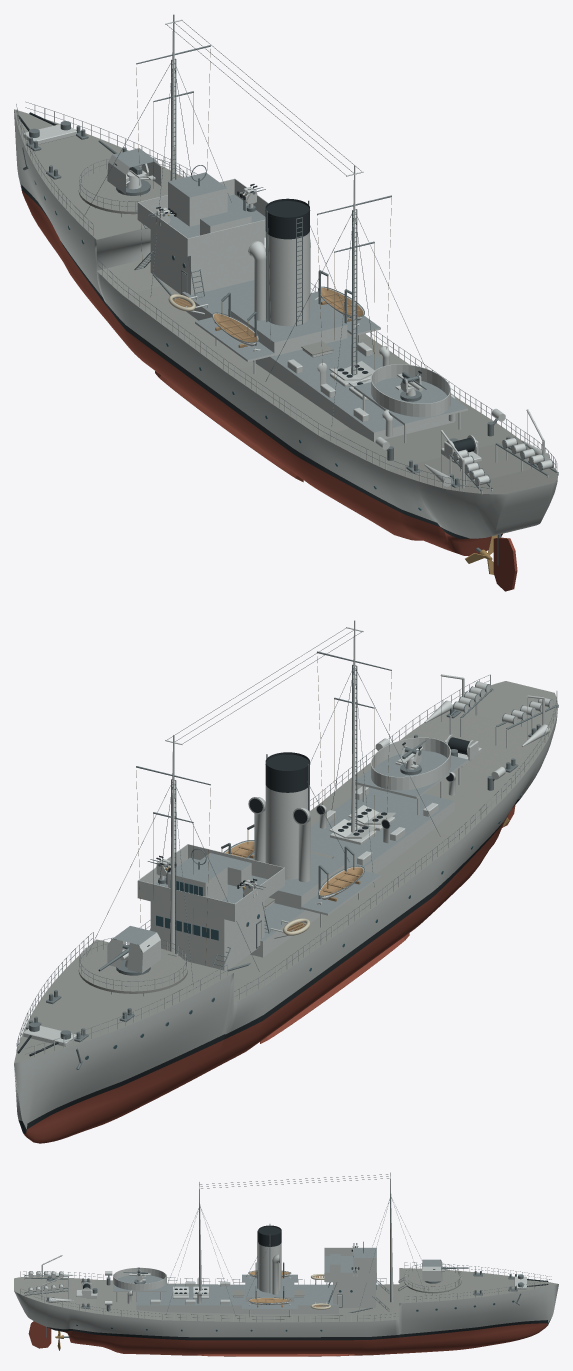
Rendered from flower-corvette.glb.
3 renders of one model, top to bottom at view 1: azimuth 30°, elevation 25°; view 2: azimuth 150°, elevation 25°; view 3: azimuth 270°, elevation 25°, orthographic. The views are drawn at different scales.
Parts seen in each view (by area): view 1: hull.surface, aft-casing.mesh, funnel.mesh, bridge-house.mesh, bridge-wings.mesh, deck-rails.mesh, funnel-casing.mesh, wheelhouse.mesh, aft-bandstand-shield.mesh, fore-gun-platform.mesh, escort-dinghies.mesh, aft-bandstand.mesh (+13 smaller); view 2: hull.surface, aft-casing.mesh, bridge-house.mesh, funnel.mesh, bridge-wings.mesh, deck-rails.mesh, fore-gun-platform.mesh, aft-bandstand-shield.mesh, aft-bandstand.mesh, boiler-vents.mesh, fore-4in.yaw.mesh, wheelhouse.mesh (+15 smaller); view 3: hull.surface, aft-casing.mesh, deck-rails.mesh, funnel.mesh, bridge-house.mesh, bridge-wings.mesh, fore-gun-platform.mesh, aft-bandstand-shield.mesh, funnel-casing.mesh, wheelhouse.mesh, depth-racks.mesh, escort-dinghies.mesh (+14 smaller).
Part boxes in pixels (bbox=[...]): hull.surface: bbox=[14, 109, 557, 555]; aft-casing.mesh: bbox=[182, 280, 454, 441]; funnel.mesh: bbox=[265, 198, 349, 340]; bridge-house.mesh: bbox=[150, 230, 264, 299]; bridge-wings.mesh: bbox=[137, 178, 268, 256]; deck-rails.mesh: bbox=[16, 101, 557, 493]; funnel-casing.mesh: bbox=[228, 298, 347, 355]; wheelhouse.mesh: bbox=[168, 172, 227, 226]; aft-bandstand-shield.mesh: bbox=[371, 364, 450, 417]; fore-gun-platform.mesh: bbox=[78, 168, 181, 217]; escort-dinghies.mesh: bbox=[212, 270, 364, 347]; aft-bandstand.mesh: bbox=[354, 377, 467, 443]; hull.surface: bbox=[14, 681, 557, 1143]; aft-casing.mesh: bbox=[250, 787, 454, 957]; bridge-house.mesh: bbox=[150, 900, 264, 971]; funnel.mesh: bbox=[265, 752, 349, 879]; bridge-wings.mesh: bbox=[137, 844, 284, 921]; deck-rails.mesh: bbox=[16, 674, 557, 1056]; fore-gun-platform.mesh: bbox=[78, 948, 187, 996]; aft-bandstand-shield.mesh: bbox=[371, 737, 450, 790]; aft-bandstand.mesh: bbox=[355, 751, 467, 815]; boiler-vents.mesh: bbox=[248, 797, 310, 882]; fore-4in.yaw.mesh: bbox=[107, 926, 160, 973]; wheelhouse.mesh: bbox=[168, 858, 227, 900]; hull.surface: bbox=[14, 1268, 558, 1355]; aft-casing.mesh: bbox=[136, 1284, 338, 1314]; deck-rails.mesh: bbox=[20, 1262, 551, 1321]; funnel.mesh: bbox=[246, 1224, 281, 1296]; bridge-house.mesh: bbox=[333, 1282, 376, 1312]; bridge-wings.mesh: bbox=[324, 1247, 376, 1281]; fore-gun-platform.mesh: bbox=[404, 1268, 461, 1294]; aft-bandstand-shield.mesh: bbox=[113, 1267, 166, 1290]; funnel-casing.mesh: bbox=[245, 1278, 294, 1301]; wheelhouse.mesh: bbox=[353, 1248, 376, 1272]; depth-racks.mesh: bbox=[24, 1271, 68, 1299]; escort-dinghies.mesh: bbox=[248, 1262, 291, 1307].
Bounding box in the file's own units: 10.07 × 22.51 × 62.48.
17 materials, 12 textured.
